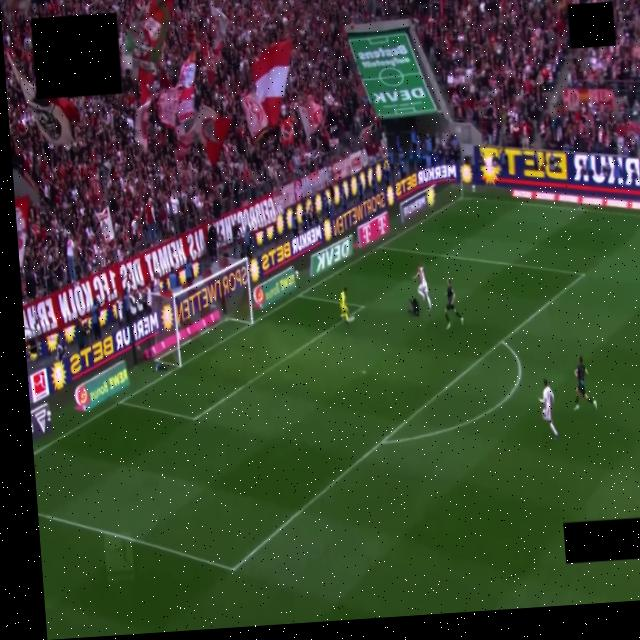player: (574, 356, 596, 410), (539, 380, 557, 438), (444, 279, 462, 329), (413, 264, 431, 309), (339, 288, 352, 323), (408, 298, 418, 317)
